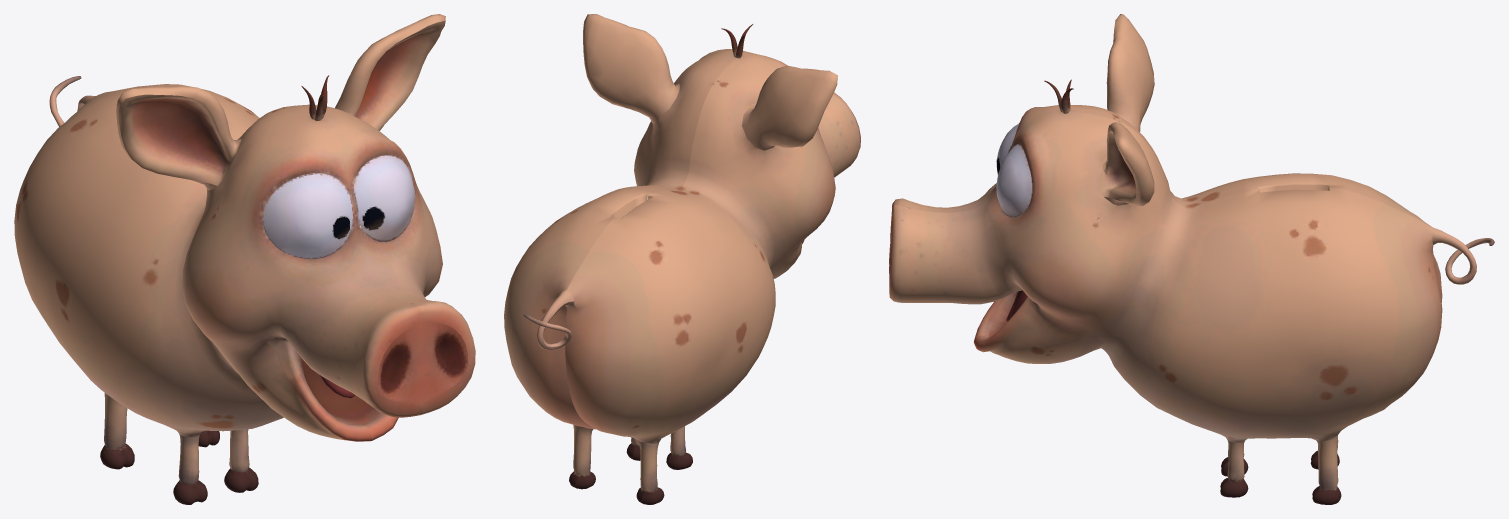
Rendered from pig.glb.
3 renders of one model, left to right at view 1: azimuth 30°, elevation 25°; view 2: azimuth 150°, elevation 25°; view 3: azimuth 270°, elevation 25°, orthographic. The views are drawn at different scales.
Parts seen in each view (by area): view 1: node_id30; view 2: node_id30; view 3: node_id30.
Part boxes in pixels (x1,y1,x2,y2): node_id30: (14,14,475,504); node_id30: (504,14,860,504); node_id30: (889,14,1494,504).
Size of the model in its own units: 0.8475 by 1.22 by 1.65.
Materials: 1 (1 with a texture image).
